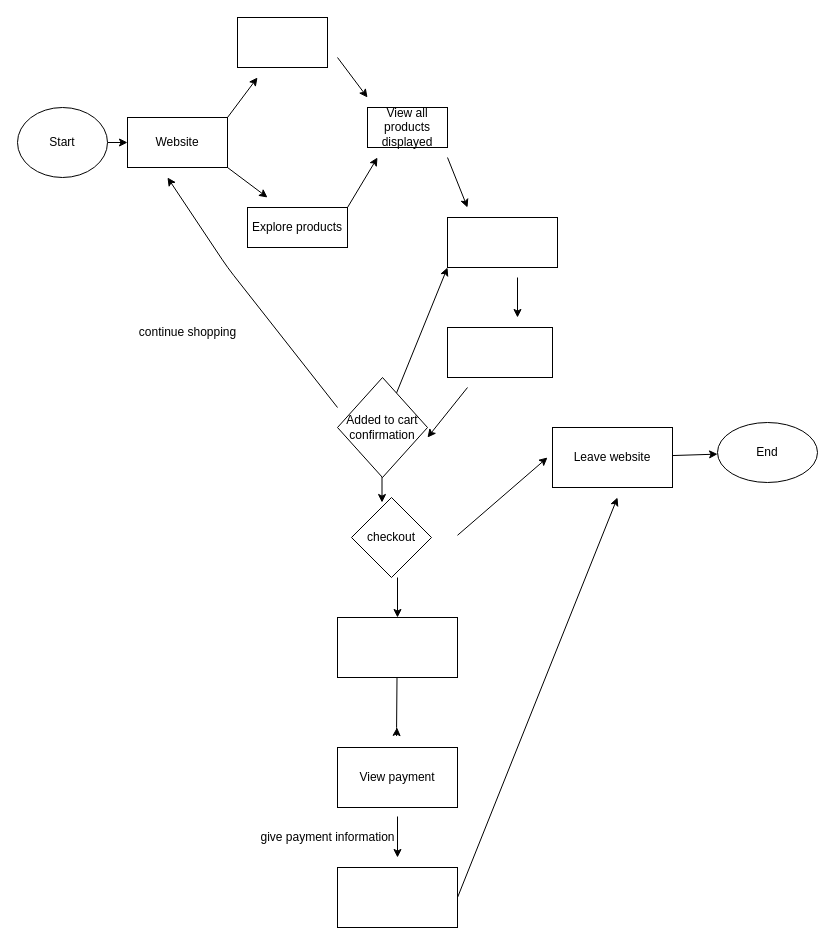
Some shapes in this 835 by 945 pixel diagram are drawn without their labels. Each missing label, with the centre of its shape:
"Add to cart" goes at point (499, 352).
"Receive confirmation and email" goes at point (397, 897).
"Search for a product (Prompt search)" goes at point (282, 42).
"View cart" goes at point (397, 647).
"View specific product webpage" goes at point (502, 242).
